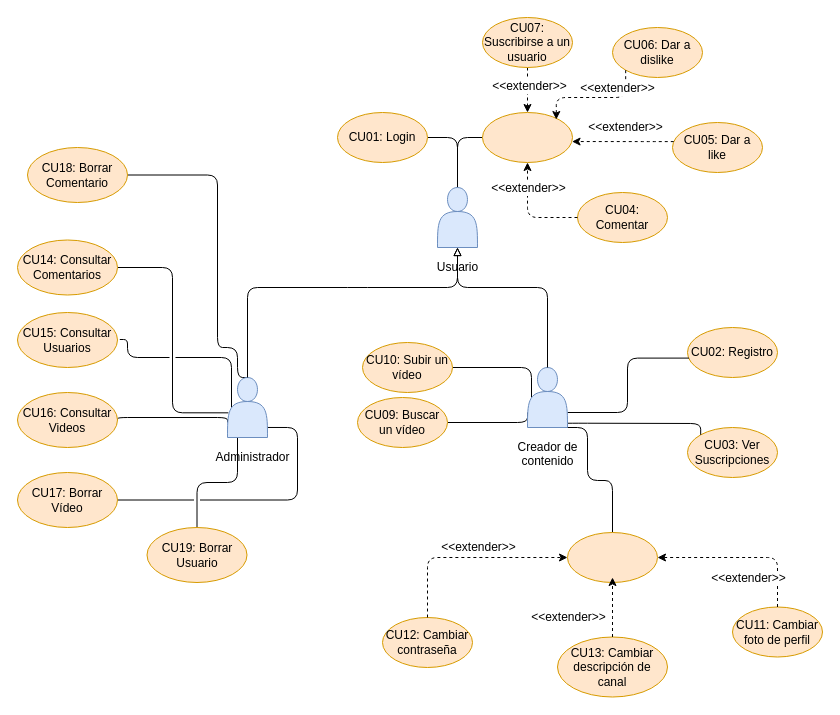
Image size: 840x715. Some labels were removed from this diagram. Here are the shapes that lost their labels. From the top down, the centre of each, then its label:
(x=527, y=137): CU04: Ver Vídeo
(x=612, y=557): CU08: Ir al canal de un usuario
